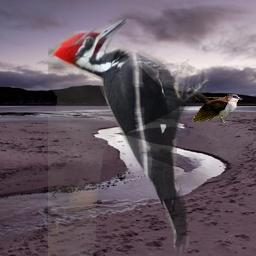Cuckoo: (192, 74, 243, 124)
Woodpecker: (48, 19, 210, 256)
